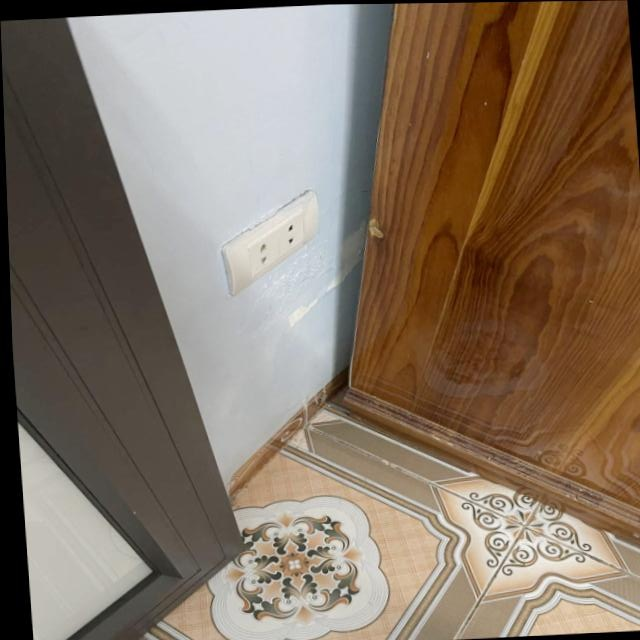outlet: (217, 188, 326, 296)
